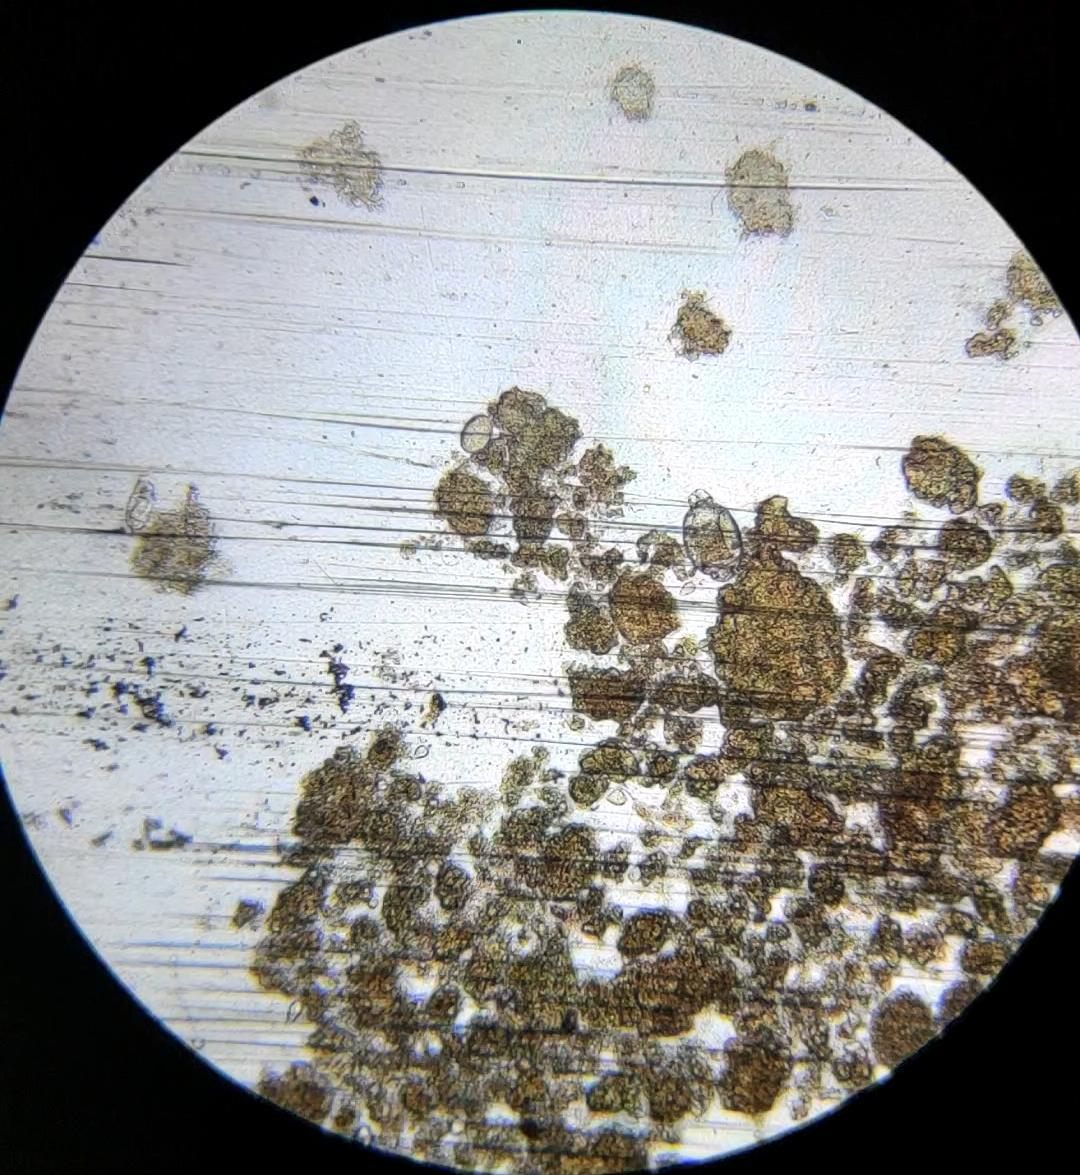Do: (683, 489, 742, 582)
